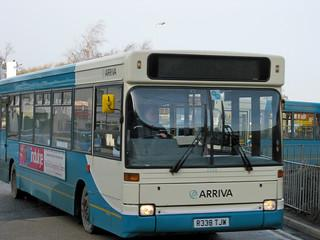bus: (0, 50, 292, 240)
